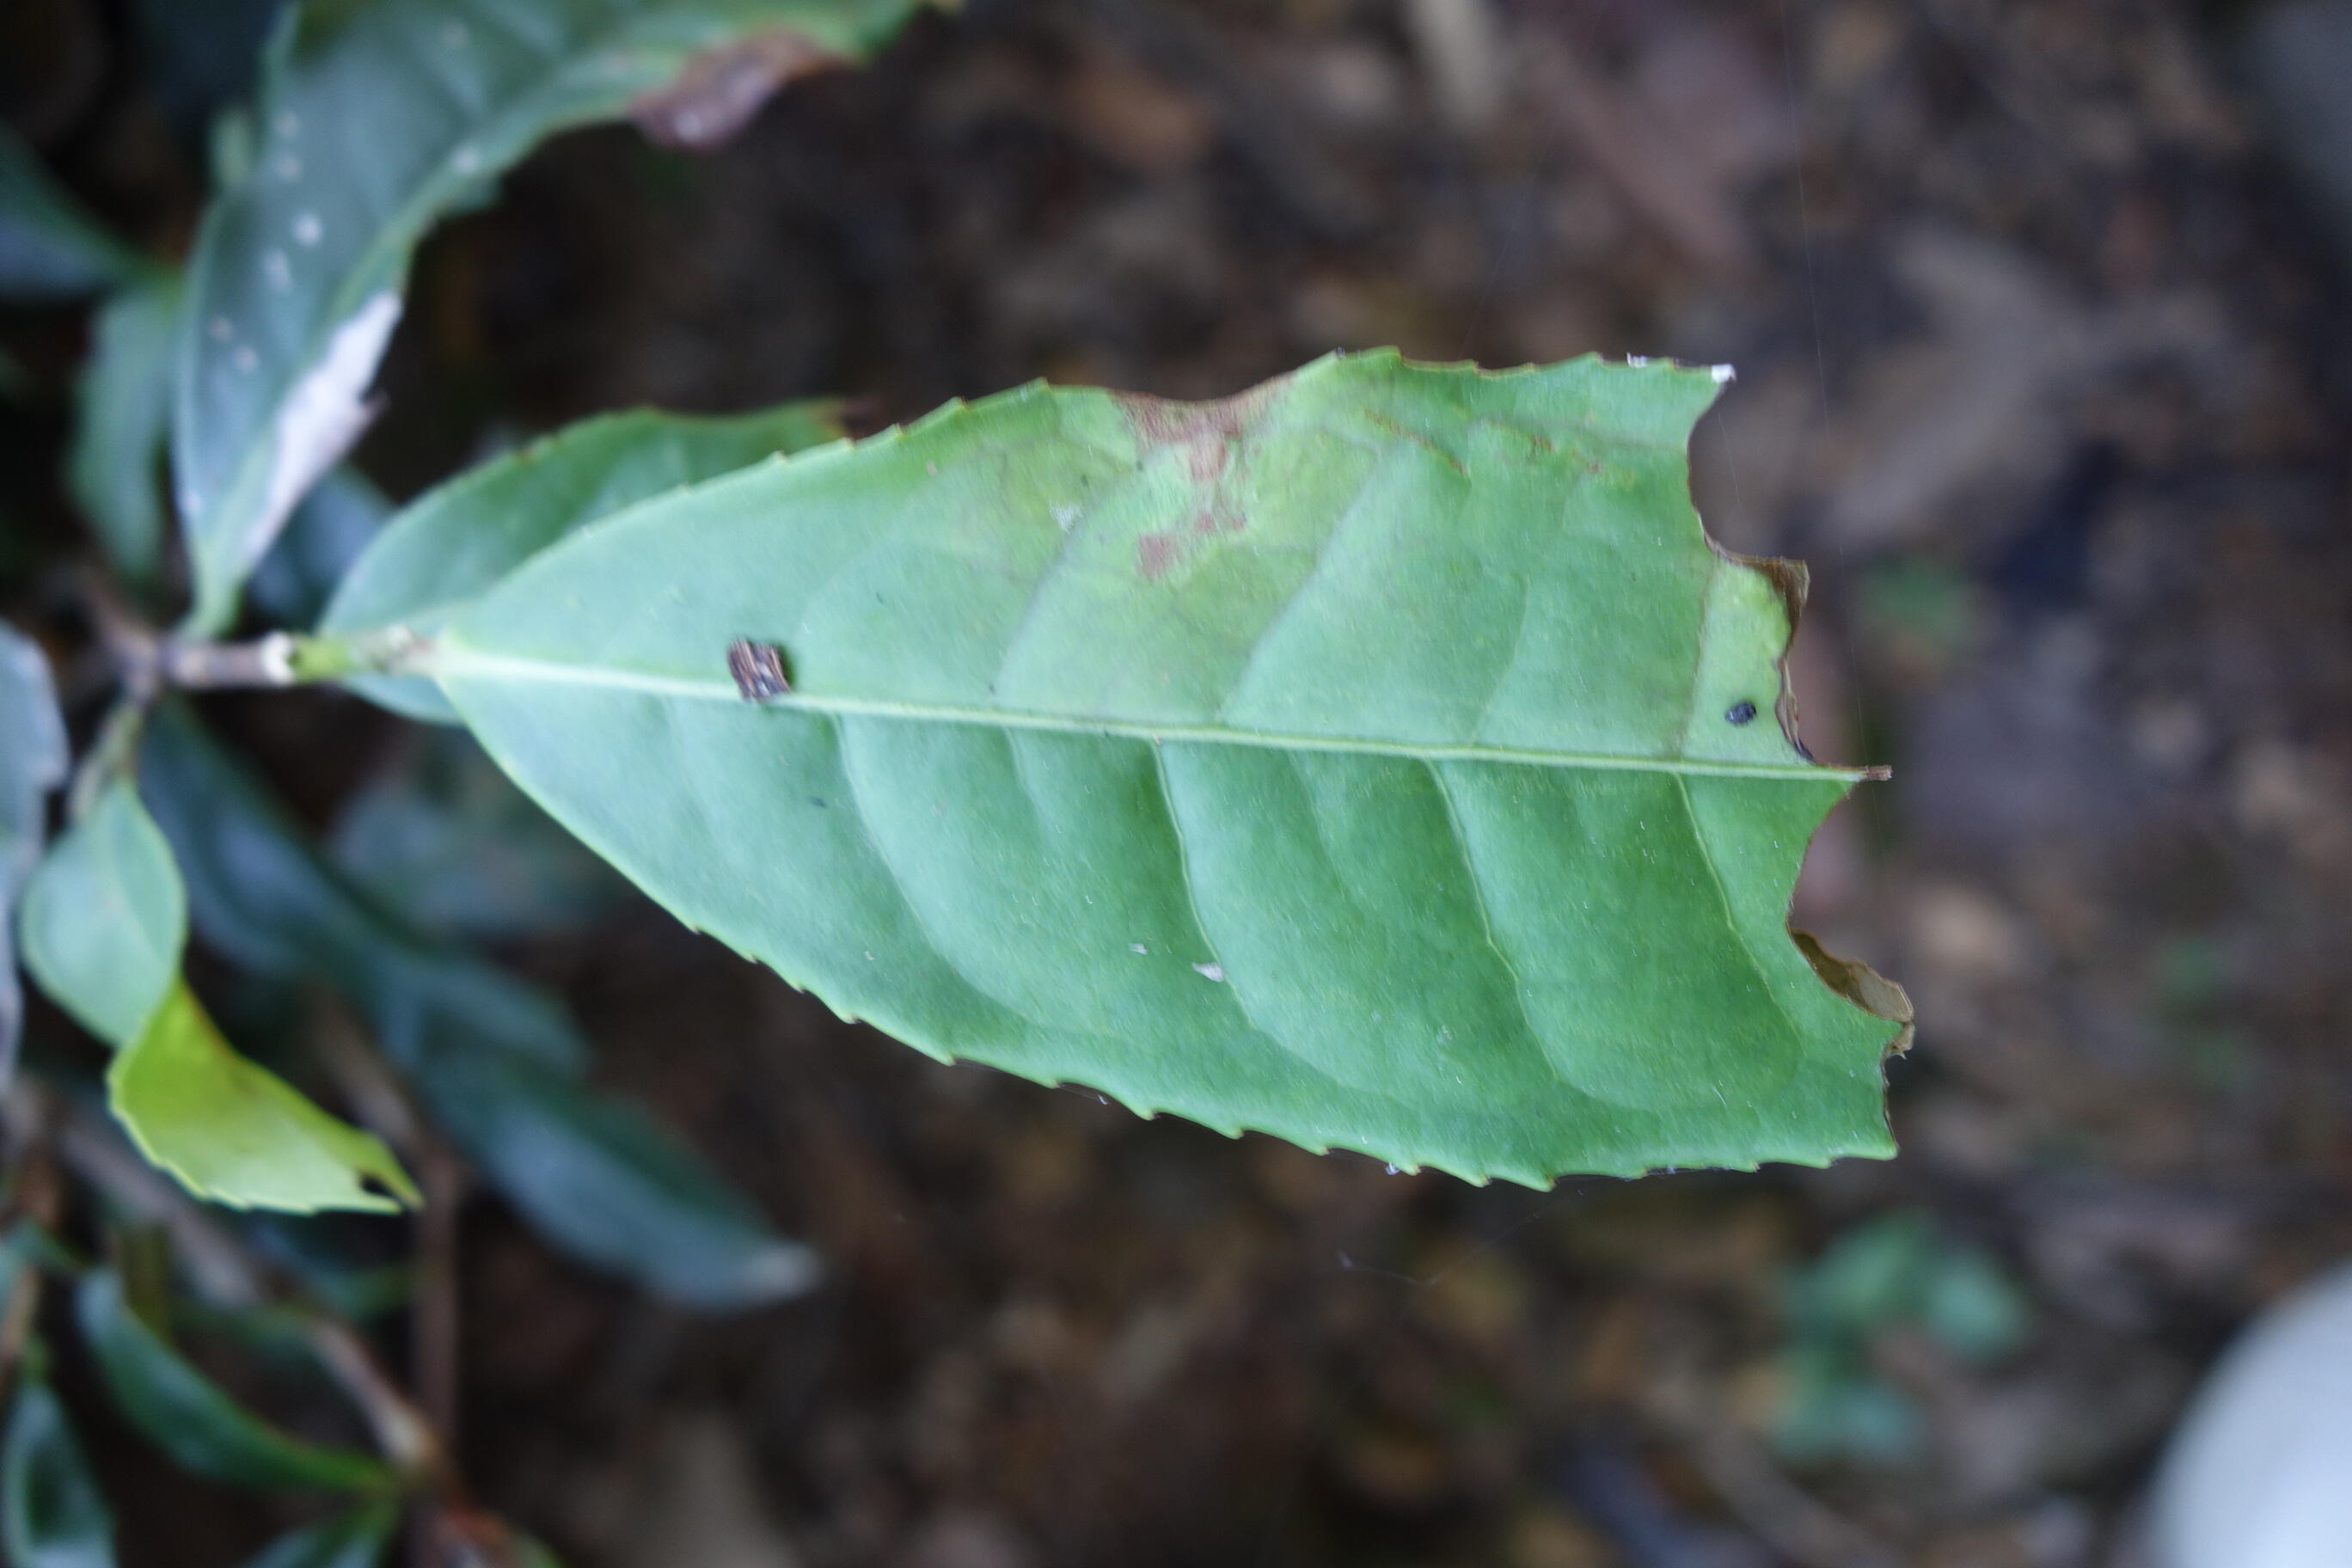chihuo_high: (430, 339, 1927, 1193)
